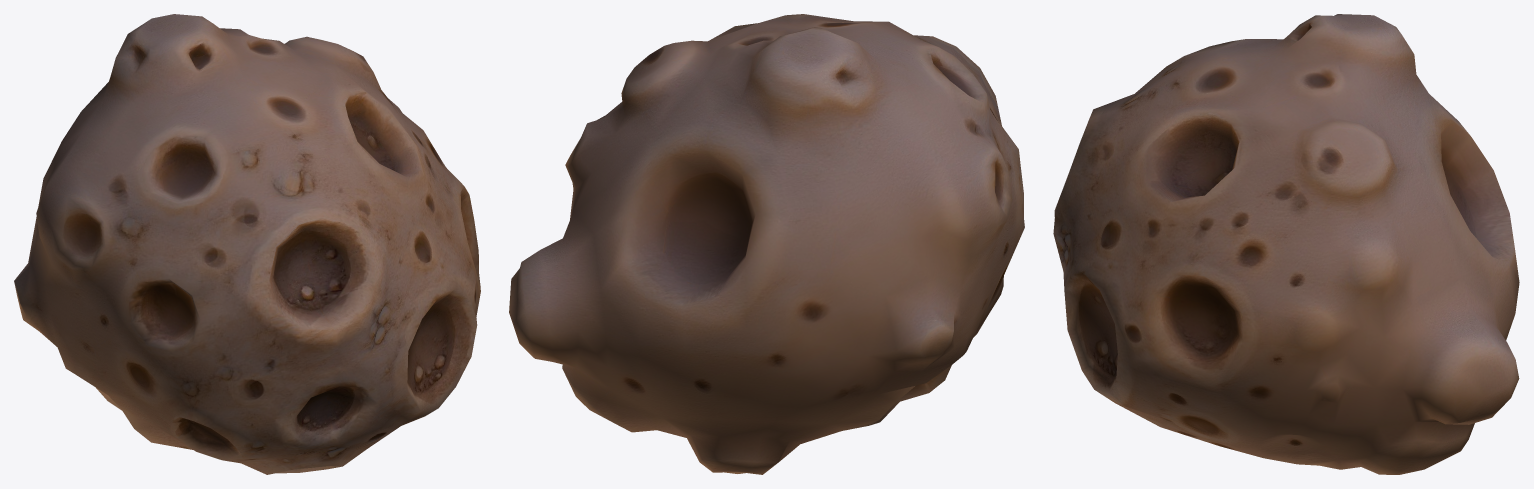
The model's file is cratered_asteroid.glb.
The picture shows the model from 3 angles, left to right: view 1: azimuth 30°, elevation 25°; view 2: azimuth 150°, elevation 25°; view 3: azimuth 270°, elevation 25°; orthographic projection. The views are drawn at different scales.
Visible parts, largest first — view 1: tripo_node_11f5fca2-7fbb-4d9e-8685-c0ca21c0543b; view 2: tripo_node_11f5fca2-7fbb-4d9e-8685-c0ca21c0543b; view 3: tripo_node_11f5fca2-7fbb-4d9e-8685-c0ca21c0543b.
Boxes of the visible parts, x1=… form: tripo_node_11f5fca2-7fbb-4d9e-8685-c0ca21c0543b: x1=14, y1=14, x2=480, y2=474; tripo_node_11f5fca2-7fbb-4d9e-8685-c0ca21c0543b: x1=509, y1=14, x2=1024, y2=474; tripo_node_11f5fca2-7fbb-4d9e-8685-c0ca21c0543b: x1=1053, y1=14, x2=1519, y2=474.
Size of the model in its own units: 0.9702 by 0.9673 by 0.9995.
Materials: 1 (1 with a texture image).
